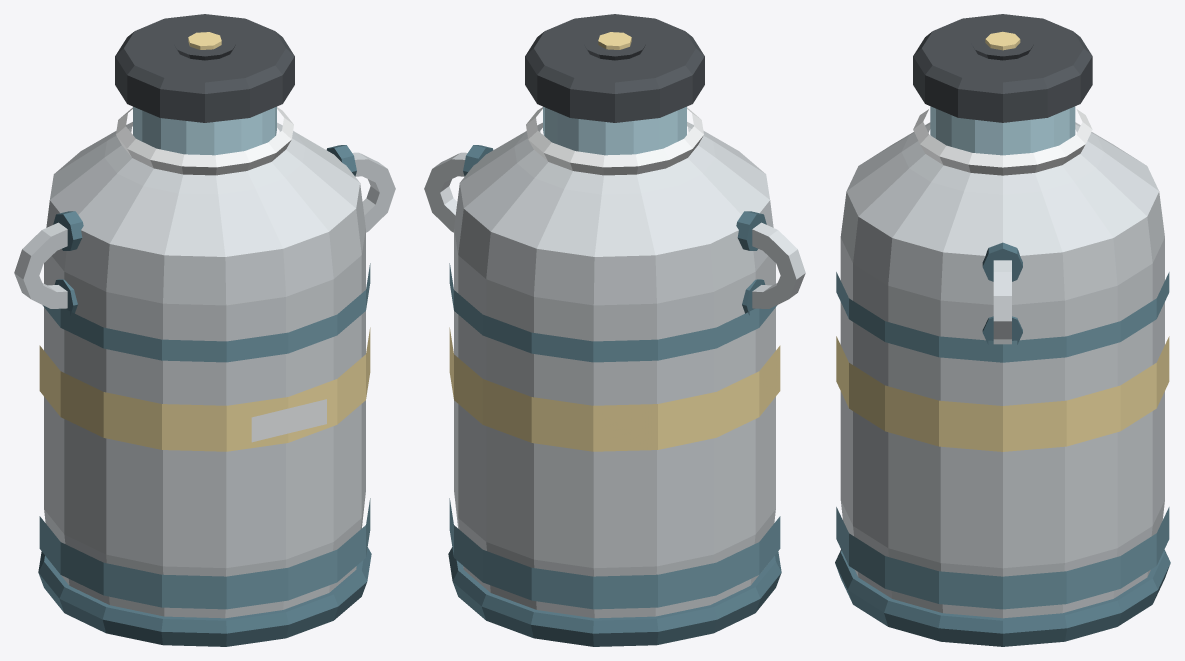
Rendered from tank.glb.
3 views of the same model, side by side, from view 1: azimuth 30°, elevation 25°; view 2: azimuth 150°, elevation 25°; view 3: azimuth 270°, elevation 25° (orthographic).
Visible parts, largest first — view 1: body, cap, label, band_lo, foot, band_hi, neck, frost, handle_L, label_win, handle_R, cap_top (+1 smaller); view 2: body, label, cap, band_lo, foot, band_hi, neck, frost, handle_L, handle_R, cap_top, boss_L_290; view 3: body, label, cap, band_lo, foot, band_hi, neck, frost, handle_R, cap_top, boss_R_290, indicator.
Part boxes in pixels (box(x1,y1,x2,y2)): body: box(44, 122, 365, 618); cap: box(115, 14, 294, 122); label: box(39, 327, 370, 451); band_lo: box(39, 498, 370, 609); foot: box(38, 547, 371, 646); band_hi: box(42, 263, 370, 362); neck: box(133, 106, 276, 155); frost: box(116, 107, 293, 175); handle_L: box(14, 222, 67, 308); label_win: box(251, 399, 326, 442); handle_R: box(352, 152, 395, 232); cap_top: box(173, 29, 236, 60); body: box(454, 122, 775, 618); label: box(449, 327, 780, 451); cap: box(525, 14, 704, 122); band_lo: box(449, 498, 780, 609); foot: box(448, 547, 781, 646); band_hi: box(449, 263, 777, 362); neck: box(543, 106, 686, 155); frost: box(526, 107, 703, 175); handle_L: box(752, 222, 805, 308); handle_R: box(424, 152, 467, 232); cap_top: box(583, 29, 646, 60); boss_L_290: box(736, 211, 766, 250); body: box(840, 122, 1164, 618); label: box(836, 336, 1169, 451); cap: box(913, 14, 1092, 122); band_lo: box(836, 507, 1169, 609); foot: box(835, 549, 1170, 646); band_hi: box(836, 272, 1169, 362); neck: box(930, 106, 1075, 155); frost: box(913, 109, 1092, 175); handle_R: box(993, 260, 1011, 344); cap_top: box(971, 29, 1034, 60); boss_R_290: box(982, 242, 1022, 281); indicator: box(985, 31, 1020, 50).
Size of the model in its own units: 0.2967 by 0.411 by 0.2325.
